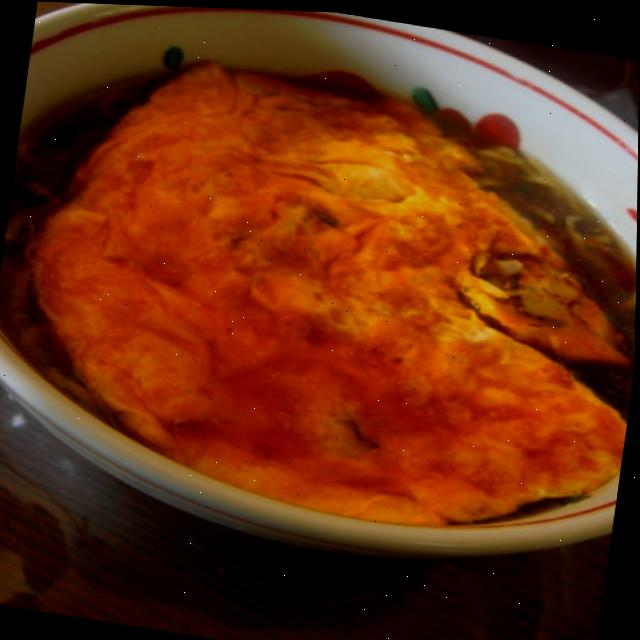面条主食: (0, 0, 640, 568)
